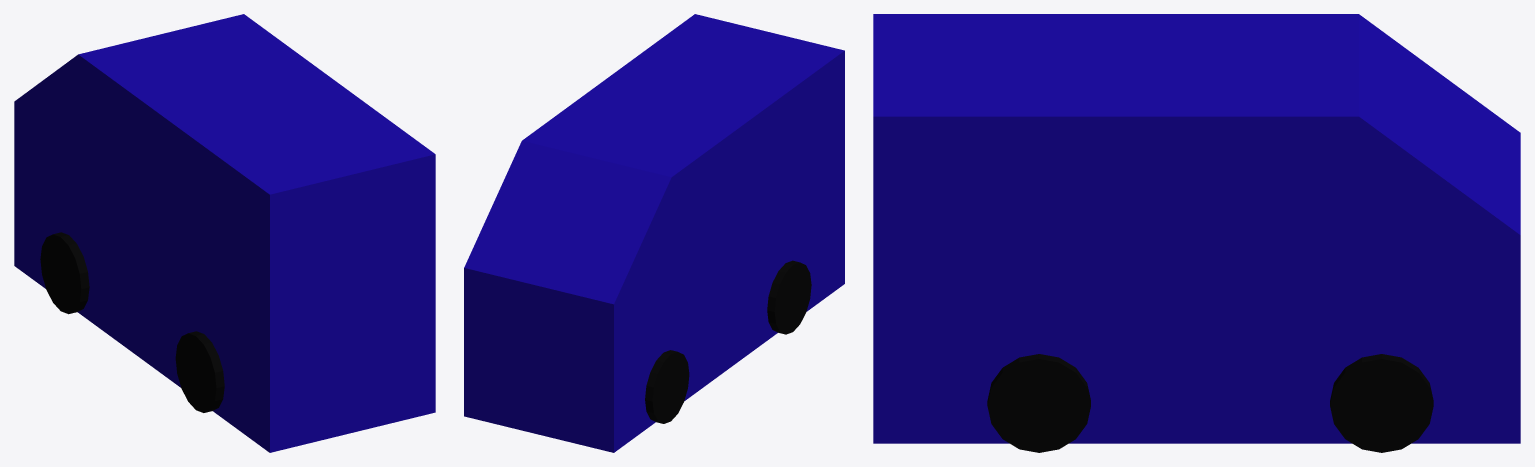
File: PoliceVan.fbx
3 views of the same model, side by side, from view 1: azimuth 30°, elevation 25°; view 2: azimuth 150°, elevation 25°; view 3: azimuth 270°, elevation 25° (orthographic). The views are drawn at different scales.
Visible parts, largest first — view 1: PoliceVan; view 2: PoliceVan; view 3: PoliceVan.
Part boxes in pixels (x1,y1,x2,y2): PoliceVan: (14,14,435,452); PoliceVan: (464,14,844,452); PoliceVan: (873,14,1520,452).
Bounding box in the file's own units: 220 × 301 × 534.
